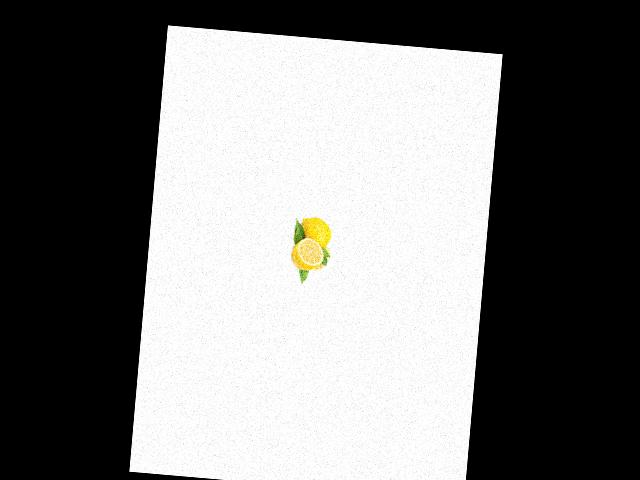lemon: (287, 236, 325, 274)
